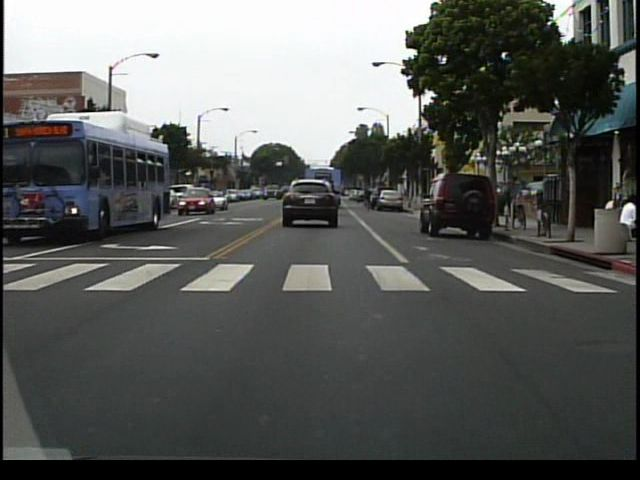car: (419, 174, 495, 241), (274, 180, 344, 234), (180, 183, 218, 216)
striscie pedonali: (3, 257, 630, 301)
